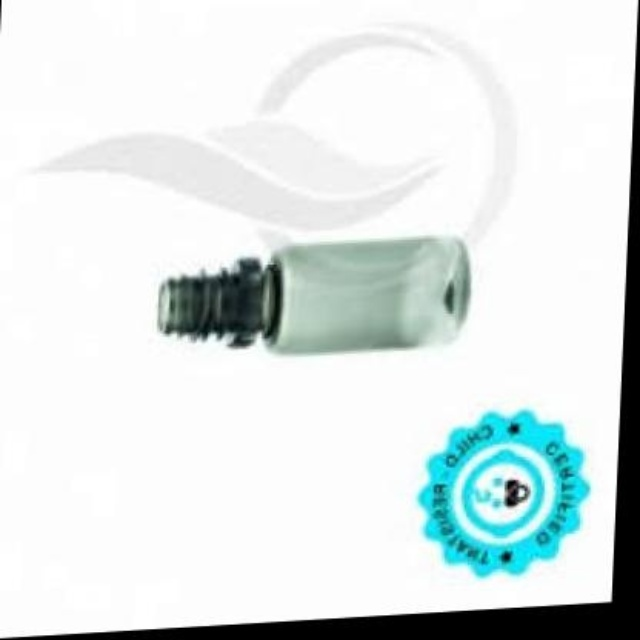trash: (158, 237, 469, 351)
